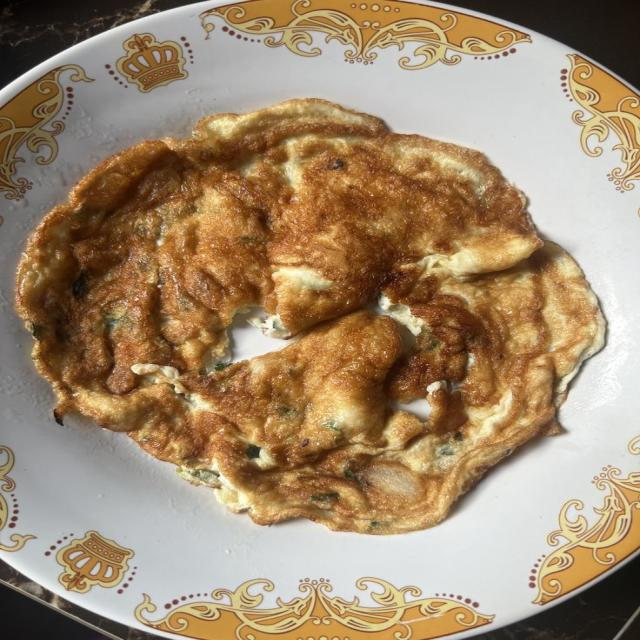omelette: (17, 100, 604, 533)
